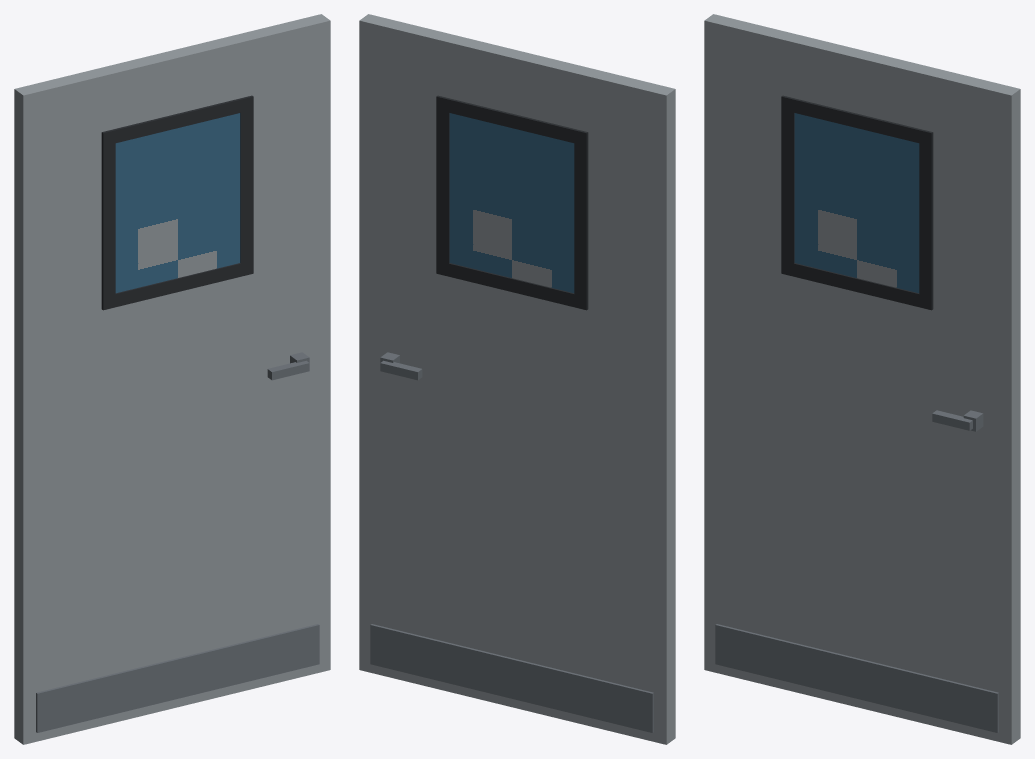
File: door_office.glb
3 renders of one model, left to right at view 1: azimuth 30°, elevation 25°; view 2: azimuth 150°, elevation 25°; view 3: azimuth 330°, elevation 25°, orthographic.
Visible parts, largest first — view 1: door_office; view 2: door_office; view 3: door_office.
Boxes of the visible parts, box(x1,y1,x2,y2) form: door_office: box(14, 14, 330, 744); door_office: box(359, 14, 675, 744); door_office: box(704, 14, 1020, 744).
Bounding box in the file's own units: 0.98 × 1.98 × 0.165.
Materials: 4 (4 with a texture image).
